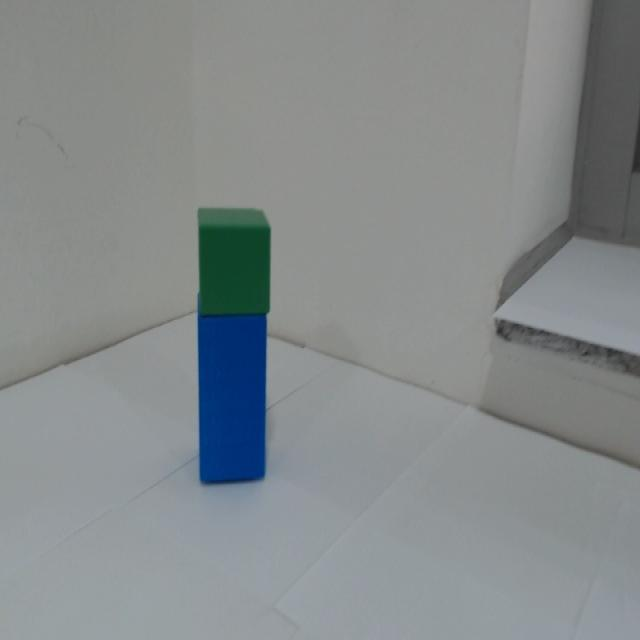cube: (192, 204, 280, 313)
